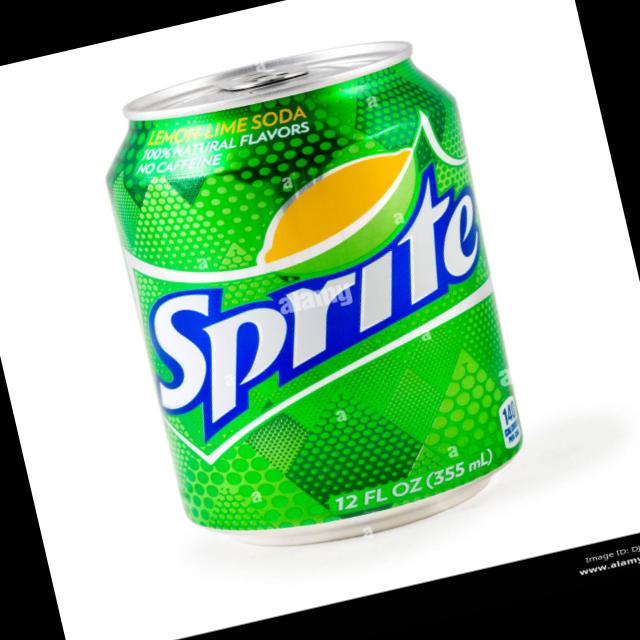sprite: (56, 1, 616, 598)
